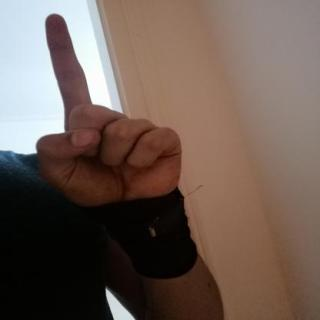BAA: (23, 7, 192, 221)
